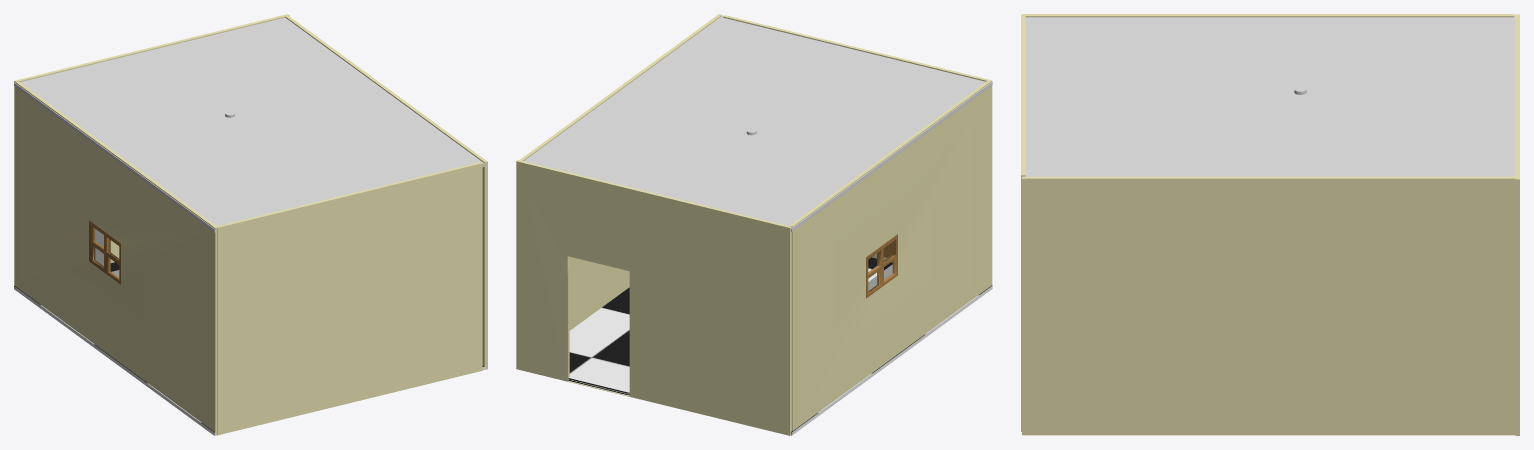
Rendered from Cocina.fbx.
3 views of the same model, side by side, from view 1: azimuth 30°, elevation 25°; view 2: azimuth 150°, elevation 25°; view 3: azimuth 270°, elevation 25° (orthographic). The views are drawn at different scales.
Parts seen in each view (by area): view 1: Pared, Techo, Pared.001, Pared.002, Pared.003, Piso, Estante.001; view 2: Techo, Pared.003, Pared.001, Piso, Pared.002, Pared, Estante.001; view 3: Pared.002, Techo, Pared.003, Pared.001, Pared.
Boxes of the visible parts, bbox=[...] form: Pared: bbox=[217, 162, 482, 435]; Techo: bbox=[14, 17, 484, 232]; Pared.001: bbox=[16, 81, 218, 435]; Pared.002: bbox=[285, 15, 487, 369]; Pared.003: bbox=[14, 14, 289, 285]; Piso: bbox=[14, 262, 485, 435]; Estante.001: bbox=[89, 220, 120, 284]; Techo: bbox=[524, 16, 992, 232]; Pared.003: bbox=[516, 160, 791, 435]; Pared.001: bbox=[789, 80, 992, 430]; Piso: bbox=[568, 257, 992, 435]; Pared.002: bbox=[519, 14, 722, 330]; Pared: bbox=[723, 15, 989, 262]; Estante.001: bbox=[866, 234, 897, 298]; Pared.002: bbox=[1022, 176, 1515, 435]; Techo: bbox=[1025, 15, 1515, 176]; Pared.003: bbox=[1515, 14, 1519, 435]; Pared.001: bbox=[1021, 14, 1514, 17]; Pared: bbox=[1021, 15, 1025, 431].
Bounding box in the file's own units: 6340 × 4617 × 8068.
